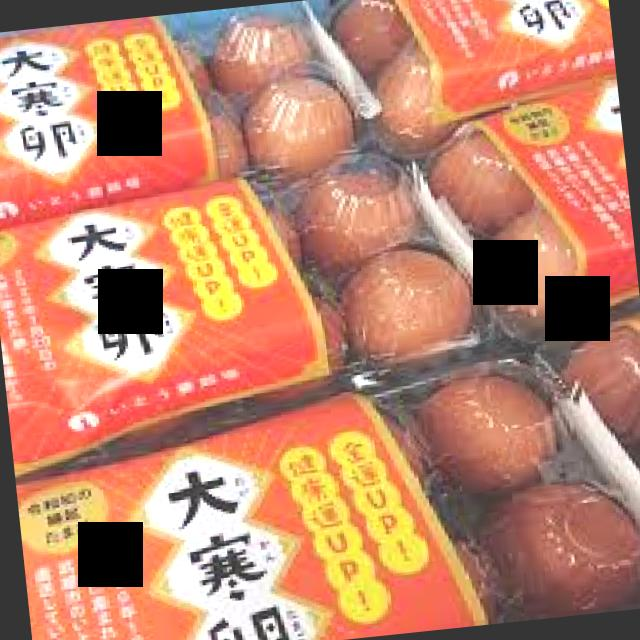egg: (16, 357, 640, 640), (0, 154, 478, 480), (0, 0, 391, 233), (421, 79, 639, 329), (332, 0, 616, 136), (560, 326, 640, 532)
